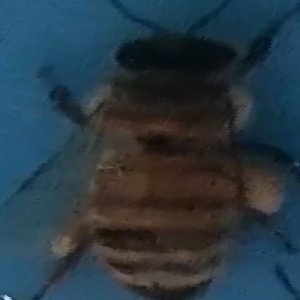bee: (32, 3, 297, 300)
